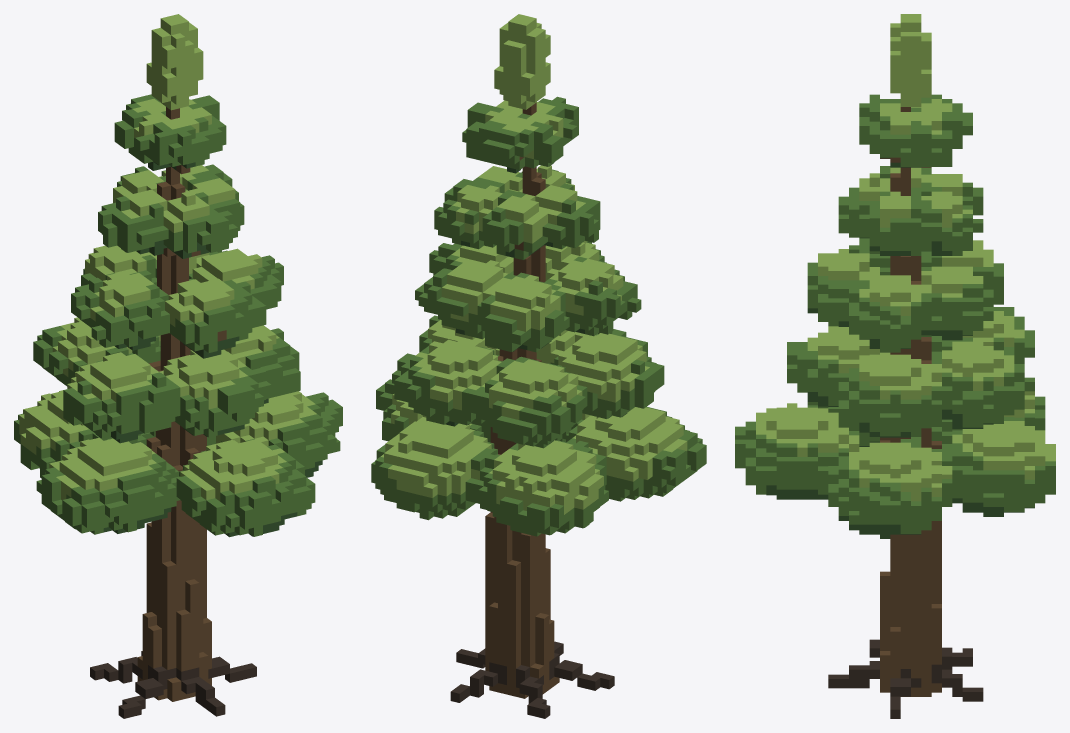
The model's file is tall_pine_v2_species1_near.glb.
The picture shows the model from 3 angles, left to right: view 1: azimuth 30°, elevation 25°; view 2: azimuth 150°, elevation 25°; view 3: azimuth 270°, elevation 25°; orthographic projection.
Visible parts, largest first — view 1: tall_pine_v2_species1_near; view 2: tall_pine_v2_species1_near; view 3: tall_pine_v2_species1_near.
Part boxes in pixels (x1,y1,x2,y2): tall_pine_v2_species1_near: (14, 14, 342, 718); tall_pine_v2_species1_near: (371, 14, 706, 718); tall_pine_v2_species1_near: (735, 14, 1055, 718).
Bounding box in the file's own units: 4.12 × 8.88 × 3.88.
1 material, 1 textured.
